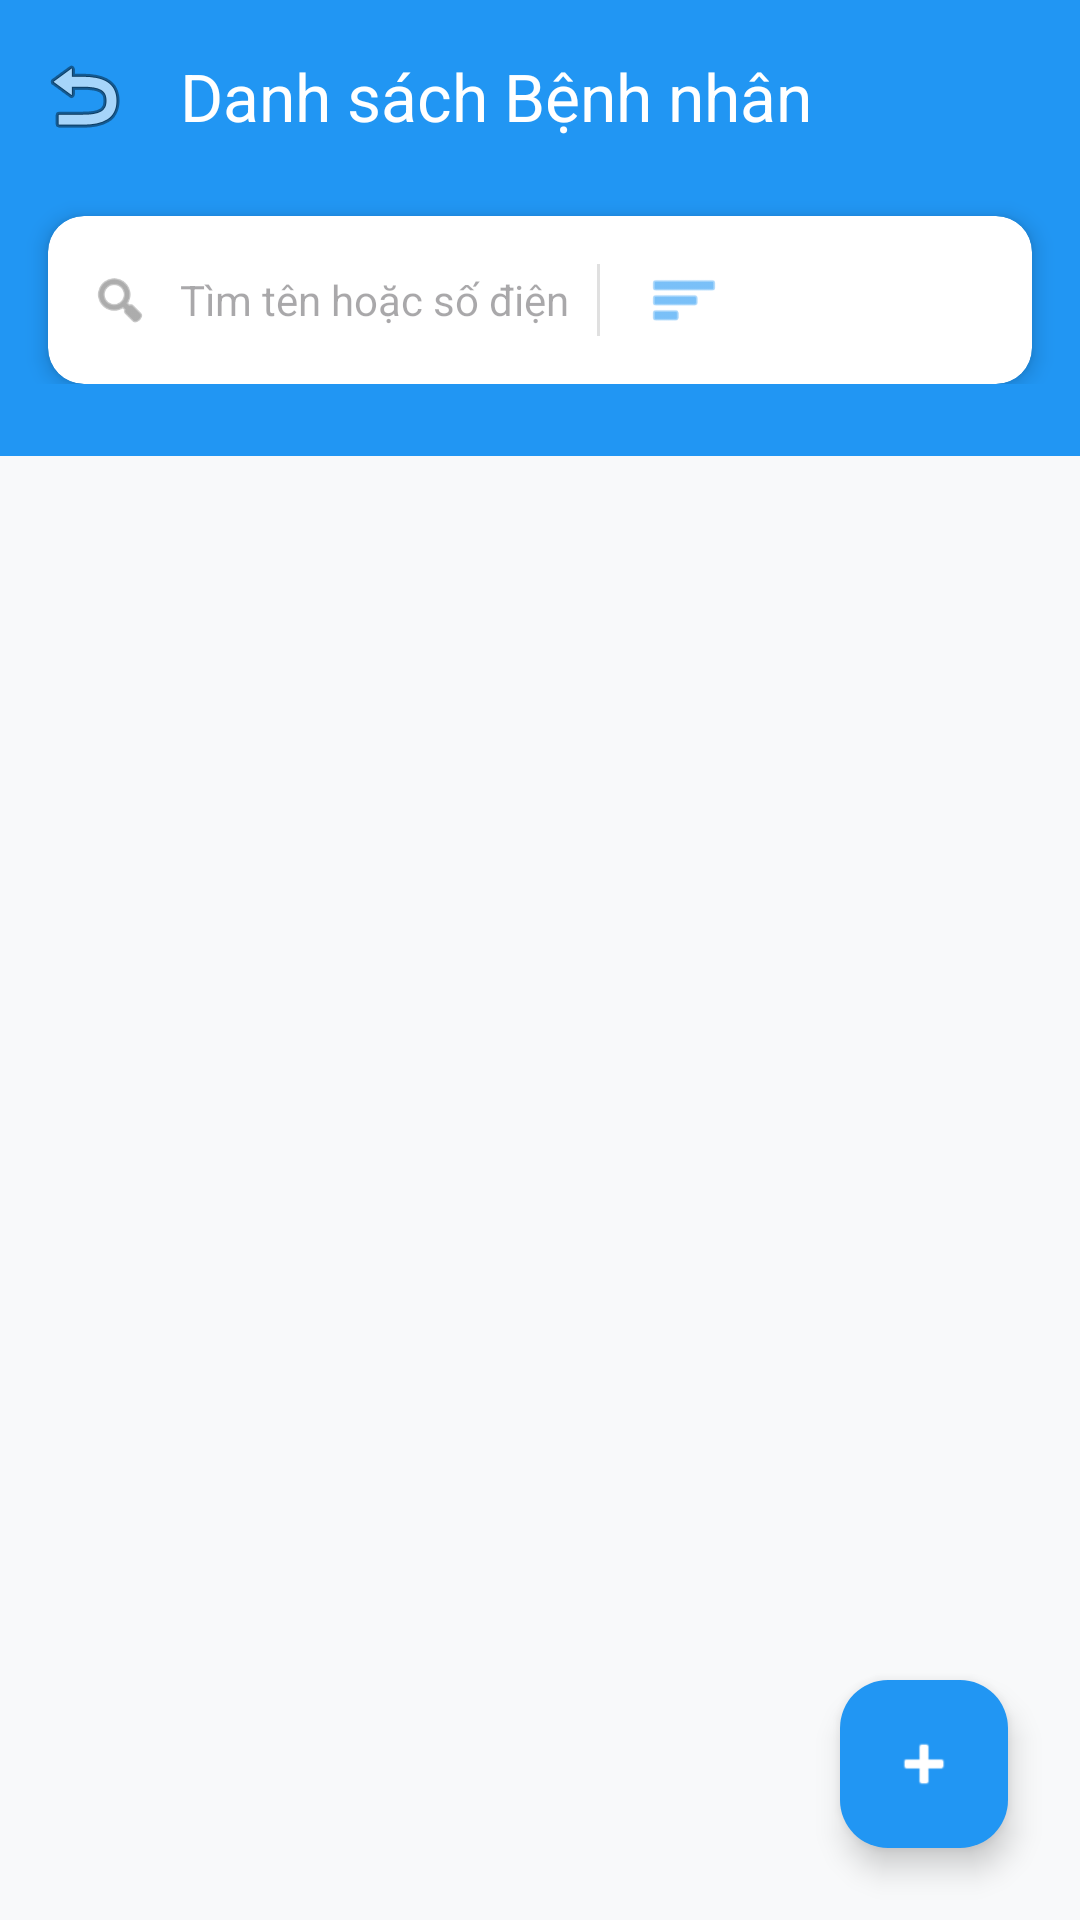

Point at icon controls on the screen. Image size 1080px x 1920px, points as point (x, y).
add: point (924, 1764)
search: point (120, 300)
sort by size: point (684, 300)
